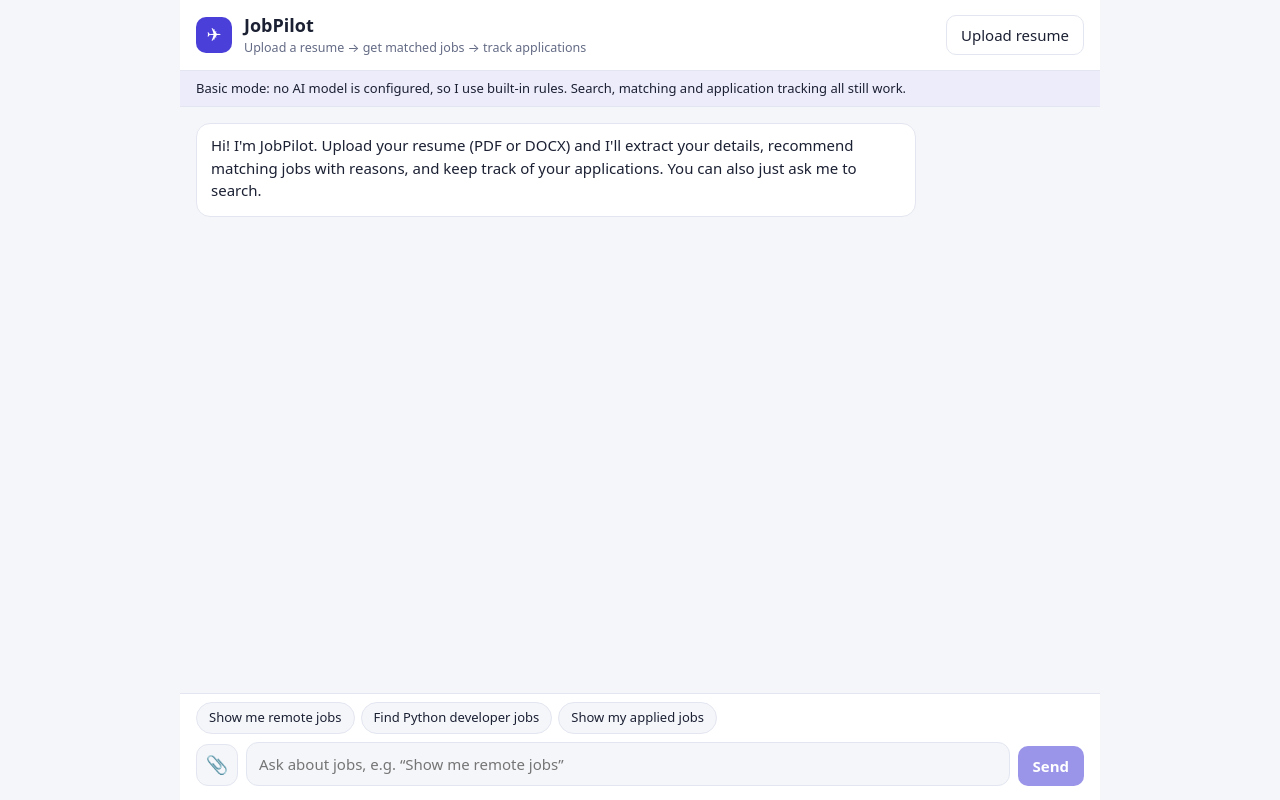
Scenario: chat UI › sends a message with a client id and renders job cards with honest status
This screenshot has width=1280, height=800.
Step 1. Type "Show me remote jobs" into the text box named "Message" → (628, 764), box [246, 742, 1010, 786]
Then press Enter
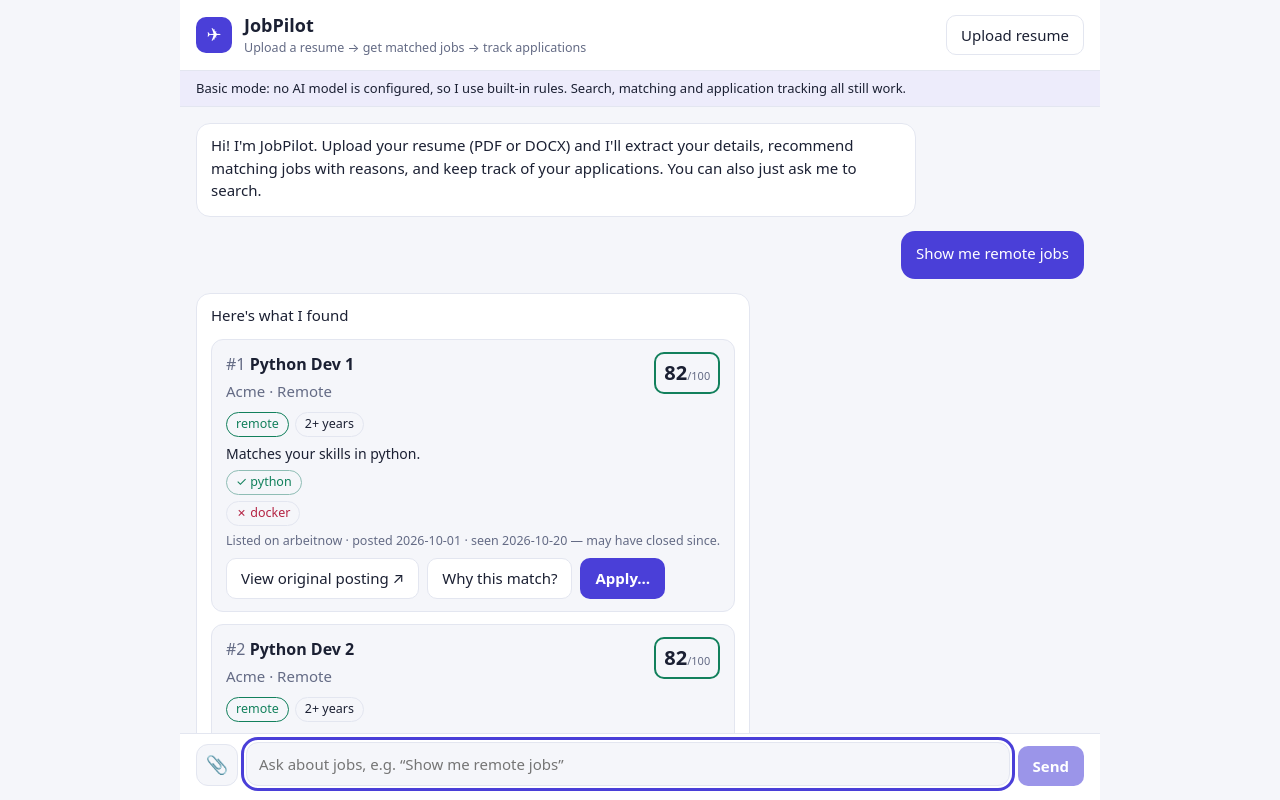
Expected: the heading "#1 Python Dev 1" is shown, [226, 352, 354, 376]
Expected: the text "82" in the row of "Python Dev 1" is shown, [664, 359, 687, 386]
Expected: the text "✗ docker" is shown, [226, 501, 300, 526]
